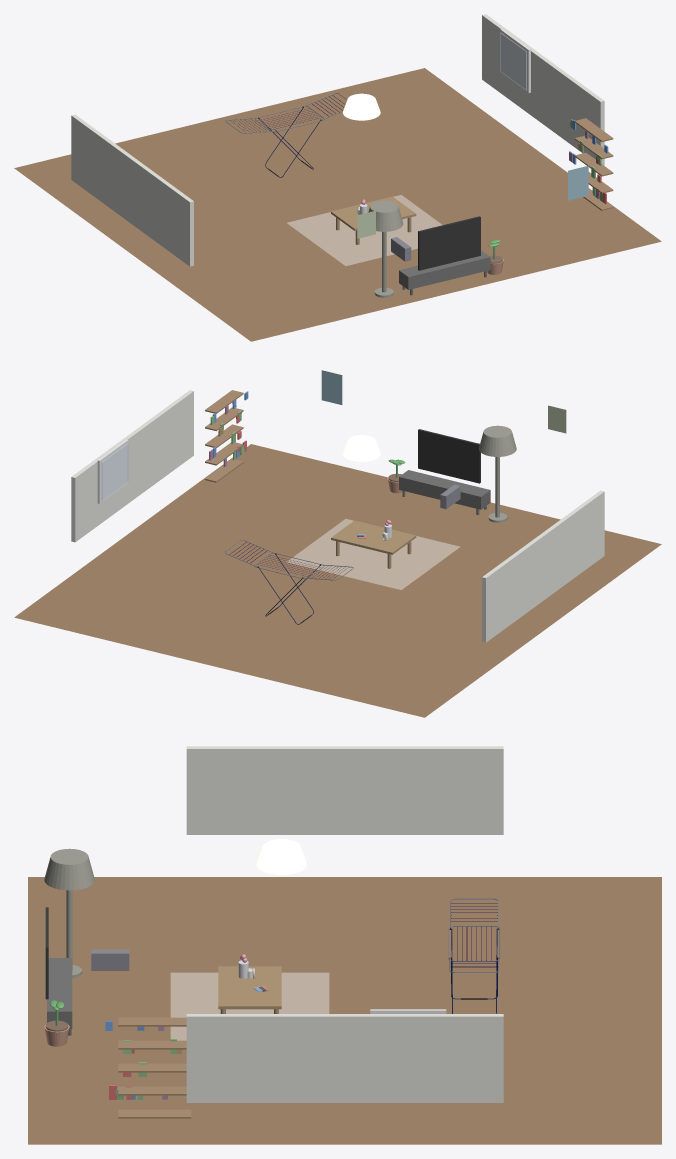
The model's file is living_room2.glb.
The picture shows the model from 3 angles, top to bottom: view 1: azimuth 30°, elevation 25°; view 2: azimuth 150°, elevation 25°; view 3: azimuth 270°, elevation 25°; orthographic projection. The views are drawn at different scales.
Visible parts, largest first — view 1: Floor, LeftWall, RightWall, LivingRoomRug, TVScreen, TVStand, WindowFrame, Object_4, WindowGlass, WindowGlass.001, CeilingLampShade, LampShade (+2 smaller); view 2: Floor, LeftWall, RightWall, LivingRoomRug, TVScreen, TVStand, CoffeeTableTop, WindowFrame, Object_4, WindowGlass, WindowGlass.001, LampShade (+2 smaller); view 3: Floor, LeftWall, RightWall, LivingRoomRug, CoffeeTableTop, LampShade, Object_4, TVStand, CeilingLampShade, SofaArmRight, Shelf1, Shelf5 (+3 smaller).
Boxes of the visible parts, x1,y1,x2,y2 form: Floor: [14, 68, 661, 341]; LeftWall: [71, 114, 193, 266]; RightWall: [482, 14, 604, 165]; LivingRoomRug: [287, 195, 442, 265]; TVScreen: [418, 216, 480, 270]; TVStand: [399, 250, 490, 289]; WindowFrame: [500, 29, 530, 92]; Object_4: [225, 93, 347, 177]; WindowGlass: [500, 33, 526, 90]; WindowGlass.001: [500, 33, 526, 89]; CeilingLampShade: [342, 93, 380, 120]; LampShade: [368, 200, 403, 231]; Floor: [14, 444, 661, 717]; LeftWall: [482, 490, 604, 642]; RightWall: [71, 390, 193, 542]; LivingRoomRug: [287, 519, 460, 589]; TVScreen: [418, 429, 480, 483]; TVStand: [399, 470, 490, 509]; CoffeeTableTop: [331, 520, 416, 554]; WindowFrame: [97, 439, 128, 503]; Object_4: [225, 540, 353, 624]; WindowGlass: [102, 443, 127, 500]; WindowGlass.001: [102, 443, 127, 500]; LampShade: [479, 425, 516, 456]; Floor: [28, 877, 661, 1144]; LeftWall: [186, 746, 503, 834]; RightWall: [186, 1014, 503, 1102]; LivingRoomRug: [170, 972, 329, 1040]; CoffeeTableTop: [218, 966, 281, 1009]; LampShade: [44, 848, 94, 890]; Object_4: [448, 898, 500, 1013]; TVStand: [47, 958, 72, 1028]; CeilingLampShade: [256, 839, 306, 874]; SofaArmRight: [91, 949, 129, 970]; Shelf1: [118, 1109, 191, 1118]; Shelf5: [118, 1017, 186, 1026].
Size of the model in its own units: 10.1 by 2.91 by 10.22.
84 materials, 1 textured.
